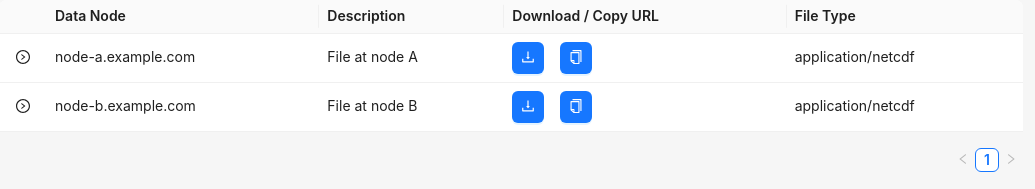
Scenario: SubFilesTable component › displays download tooltip on hover
Hover over download link
Hover over the 1st link named "download" at (528, 58), box [512,42,544,74]
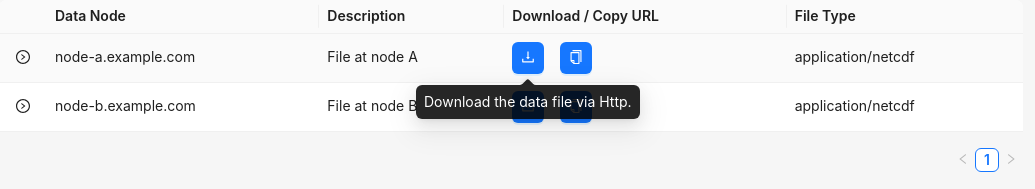
Expected: the tooltip "Download the data file via Http." is shown, [416,85,640,119]
